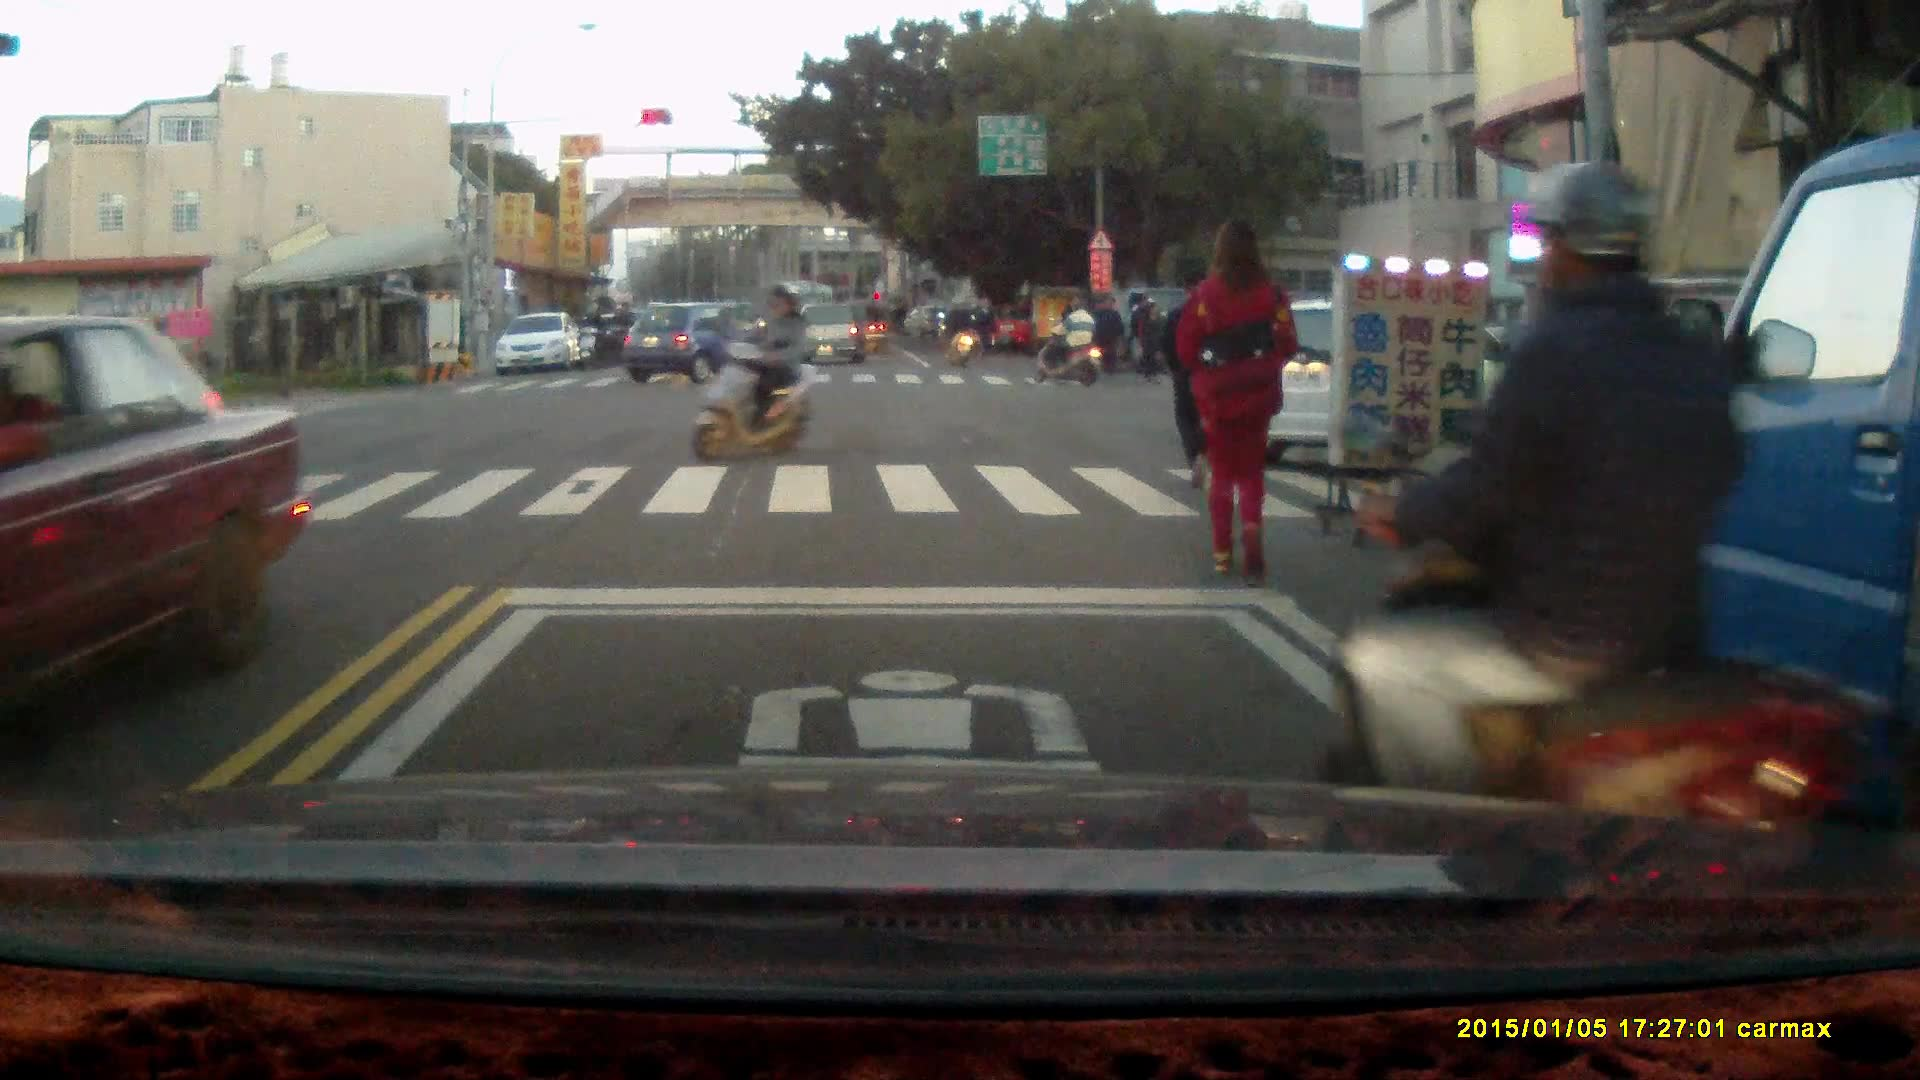pedestrian: (1176, 214, 1301, 584), (1154, 261, 1239, 486), (1088, 290, 1121, 384), (1134, 297, 1163, 374), (974, 293, 998, 368)
rider: (1318, 158, 1865, 895), (690, 282, 824, 466), (1032, 295, 1104, 387), (936, 293, 978, 370), (575, 302, 607, 370), (603, 302, 632, 363)
vehicle: (1598, 132, 1920, 879), (1, 313, 308, 733), (1233, 296, 1533, 459), (623, 303, 797, 388), (498, 313, 586, 377), (791, 301, 871, 370)
